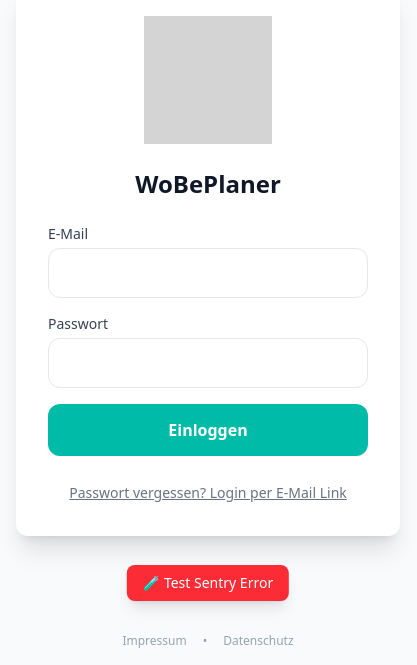
Test: Login Component › Magic Link Mode › switches back to password mode when toggle is clicked again
Toggle to magic link
Click the button "Passwort vergessen? Login per E-Mail Link": (208, 493) [69, 483, 347, 503]
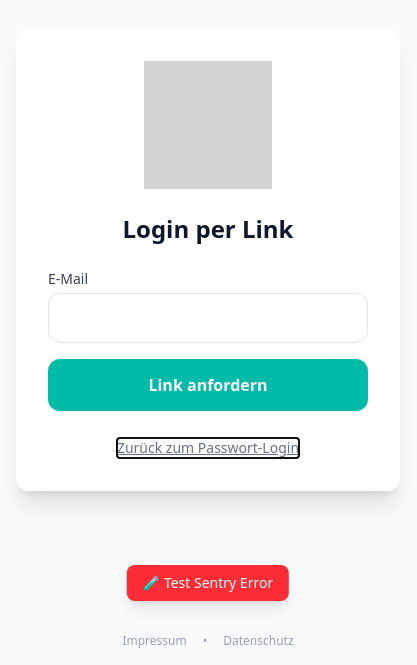
Toggle back
Click the button "Zurück zum Passwort-Login": (208, 448) [117, 438, 299, 458]
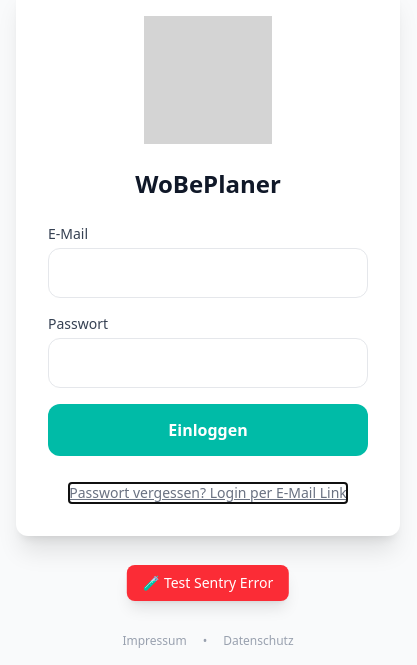
Expected: the heading "WoBePlaner" is shown, [135, 167, 281, 200]
Expected: the password field is shown, [48, 338, 368, 388]
